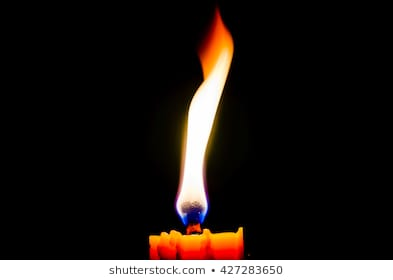Fire: (172, 12, 235, 223)
